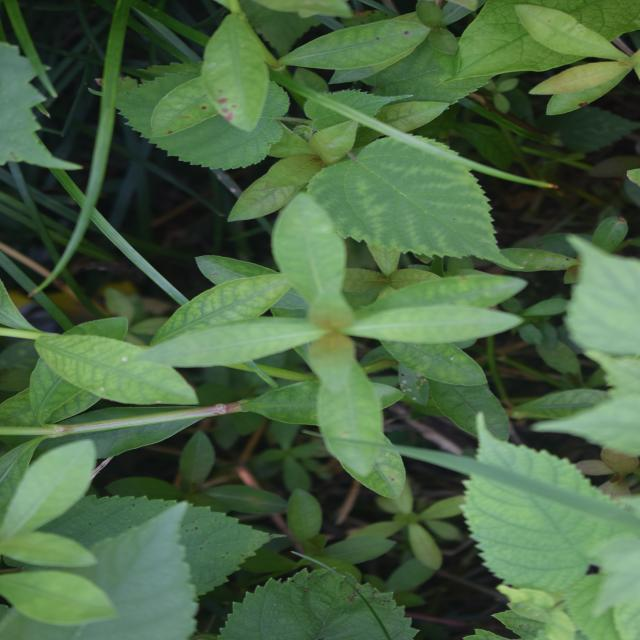Alligatorweed: (168, 135, 399, 524)
